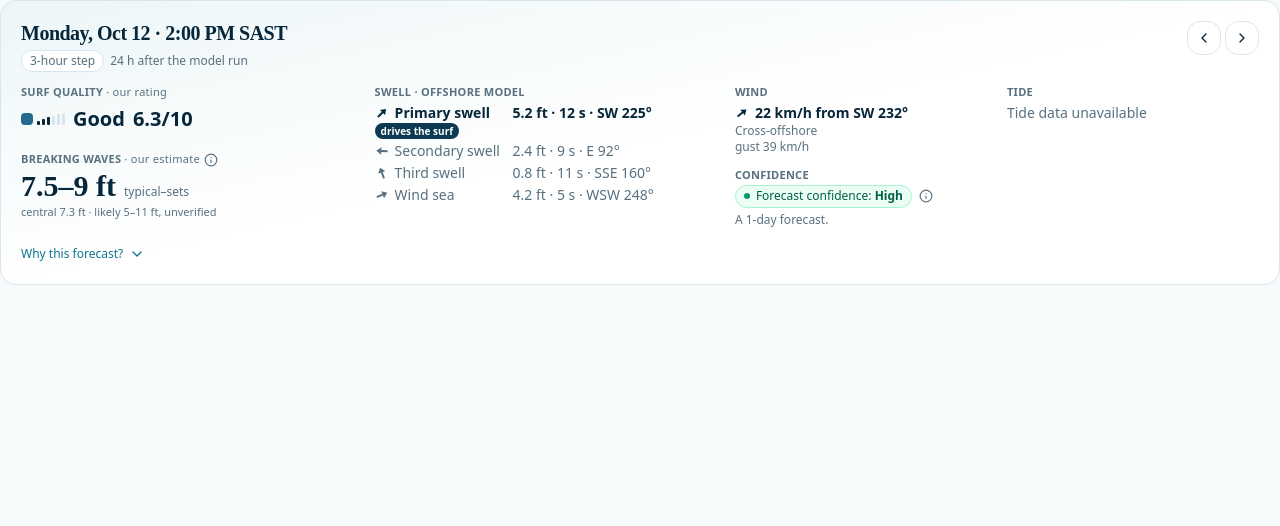
Test case: selected-time summary › explains the rating only with what the scoring engine stored
Click the button "Why this forecast?": (83, 254) [21, 246, 145, 262]
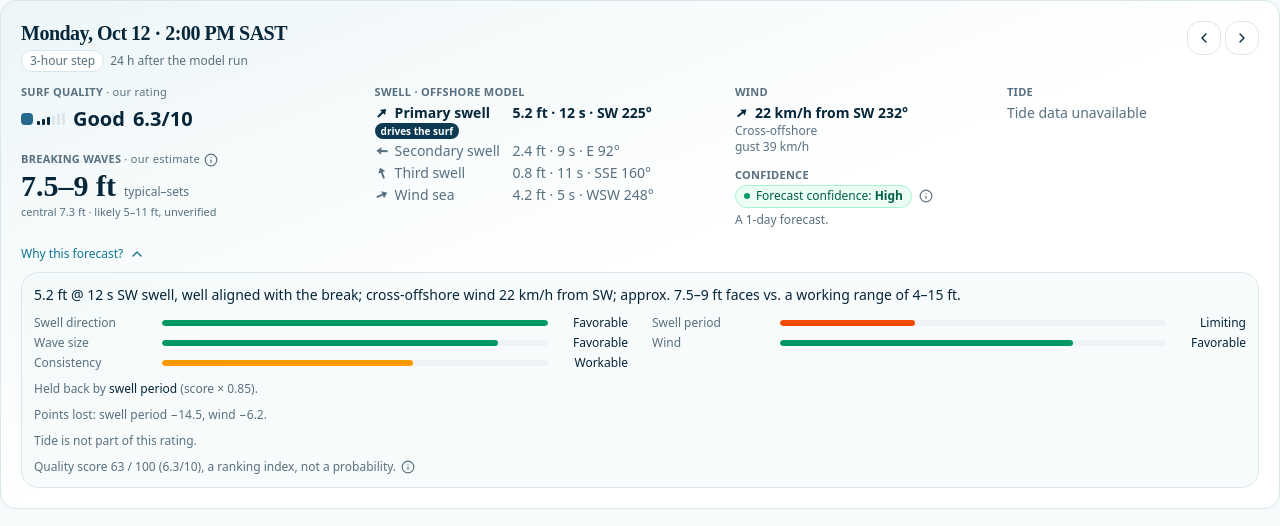
Expected: the element with test id "why-gates" reads "Held back by swell period (score × 0.85).", [34, 380, 258, 396]
Expected: the element with test id "why-contributions" reads "Points lost: swell period −14.5, wind −6.2.", [34, 406, 267, 422]
Expected: the element with test id "why-this-forecast" shows "Tide is not part of this rating.", [34, 432, 197, 448]
